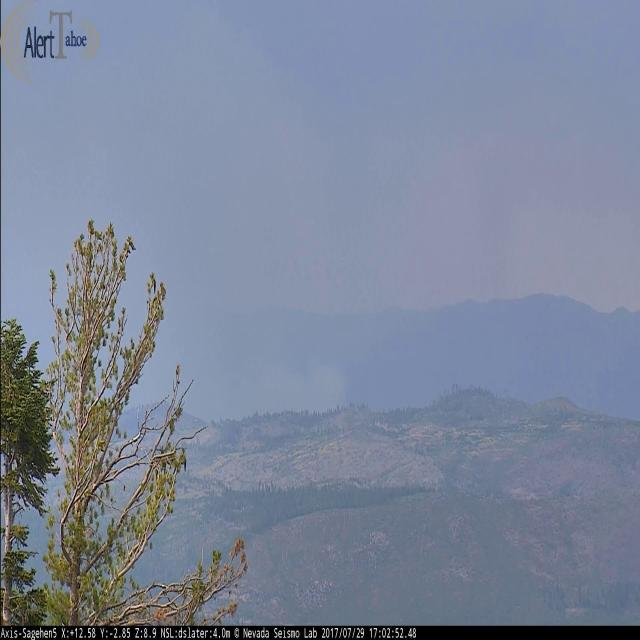smoke: (269, 362, 347, 415)
